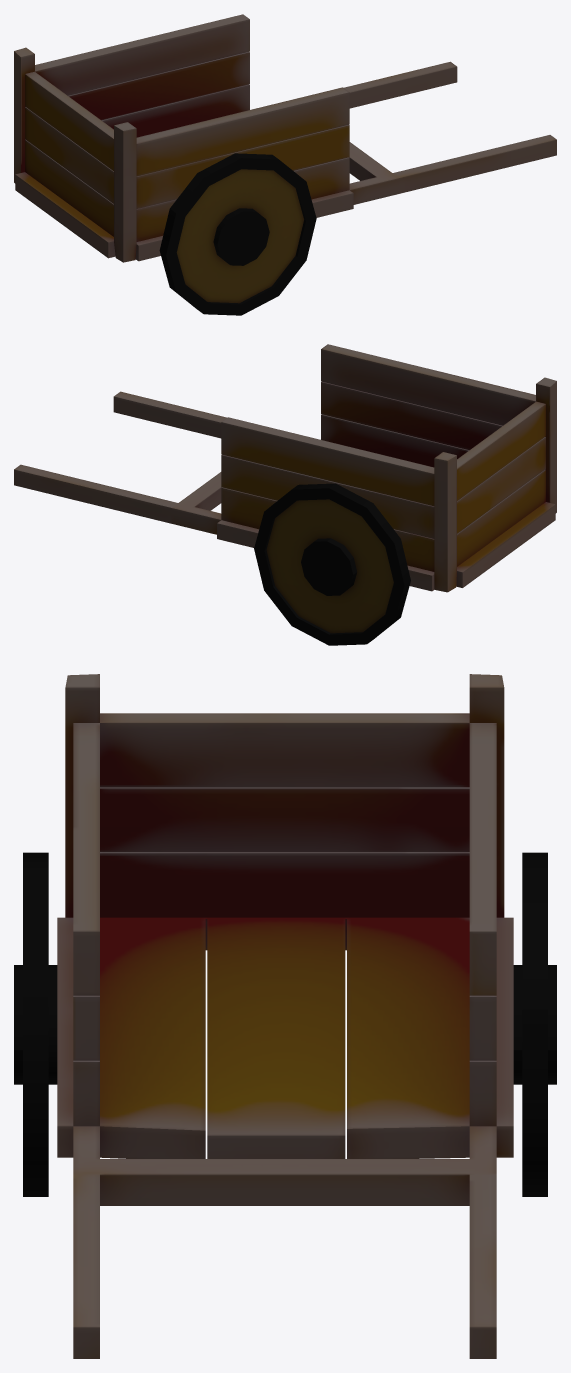
File: araba.fbx
3 views of the same model, one above another, from view 1: azimuth 30°, elevation 25°; view 2: azimuth 150°, elevation 25°; view 3: azimuth 270°, elevation 25° (orthographic). The views are drawn at different scales.
Parts seen in each view (by area): view 1: Cube.034; view 2: Cube.034; view 3: Cube.034.
Boxes of the visible parts, box(x1,y1,x2,y2) form: Cube.034: box(14, 14, 556, 315); Cube.034: box(14, 344, 556, 645); Cube.034: box(14, 674, 556, 1358).
Size of the model in its own units: 627 by 275 by 336.
